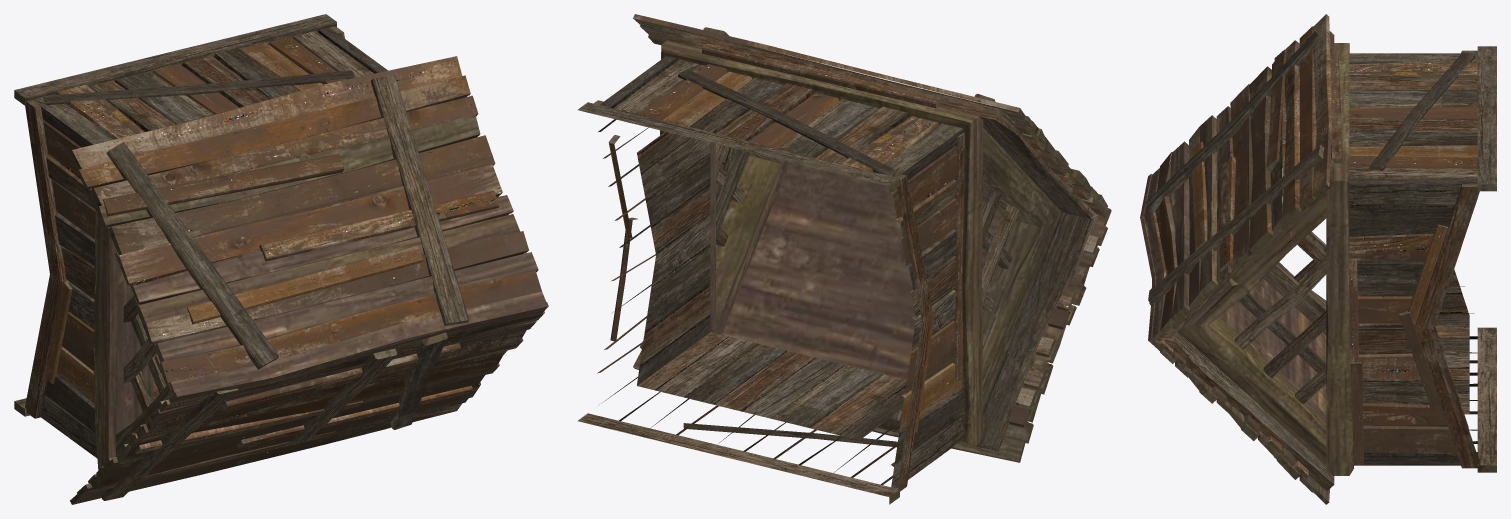
File: VIK_VIL_EXT_Chimney_House_02A_LOD0-transformed.glb
3 views of the same model, side by side, from view 1: azimuth 30°, elevation 25°; view 2: azimuth 150°, elevation 25°; view 3: azimuth 270°, elevation 25° (orthographic). The views are drawn at different scales.
Parts seen in each view (by area): view 1: VIK_VIL_EXT_Chimney_House_02A_LOD0; view 2: VIK_VIL_EXT_Chimney_House_02A_LOD0; view 3: VIK_VIL_EXT_Chimney_House_02A_LOD0.
Boxes of the visible parts, left/top/right/bottom form: VIK_VIL_EXT_Chimney_House_02A_LOD0: left=14, top=14, right=548, bottom=504; VIK_VIL_EXT_Chimney_House_02A_LOD0: left=577, top=14, right=1111, bottom=504; VIK_VIL_EXT_Chimney_House_02A_LOD0: left=1140, top=14, right=1496, bottom=504.
Bounding box in the file's own units: 0.0261 × 0.0232 × 0.023.
3 materials, 3 textured.
